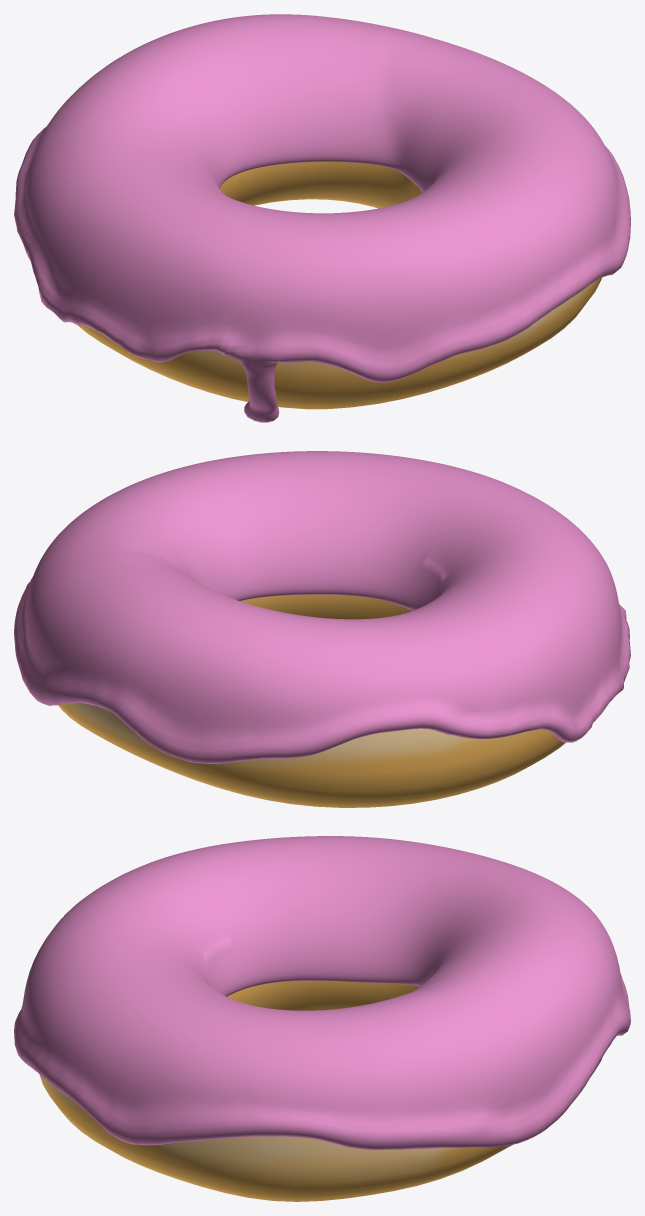
The model's file is donut.fbx.
3 views of the same model, one above another, from view 1: azimuth 30°, elevation 25°; view 2: azimuth 150°, elevation 25°; view 3: azimuth 270°, elevation 25° (orthographic).
Parts seen in each view (by area): view 1: Icing, Donut; view 2: Icing, Donut; view 3: Icing, Donut.
Boxes of the visible parts, <box> form: Icing: <box>14,14,630,422</box>; Donut: <box>77,162,601,409</box>; Icing: <box>14,451,630,763</box>; Donut: <box>58,594,565,807</box>; Icing: <box>14,836,630,1150</box>; Donut: <box>39,980,601,1201</box>.
Size of the model in its own units: 203 by 76.31 by 204.
